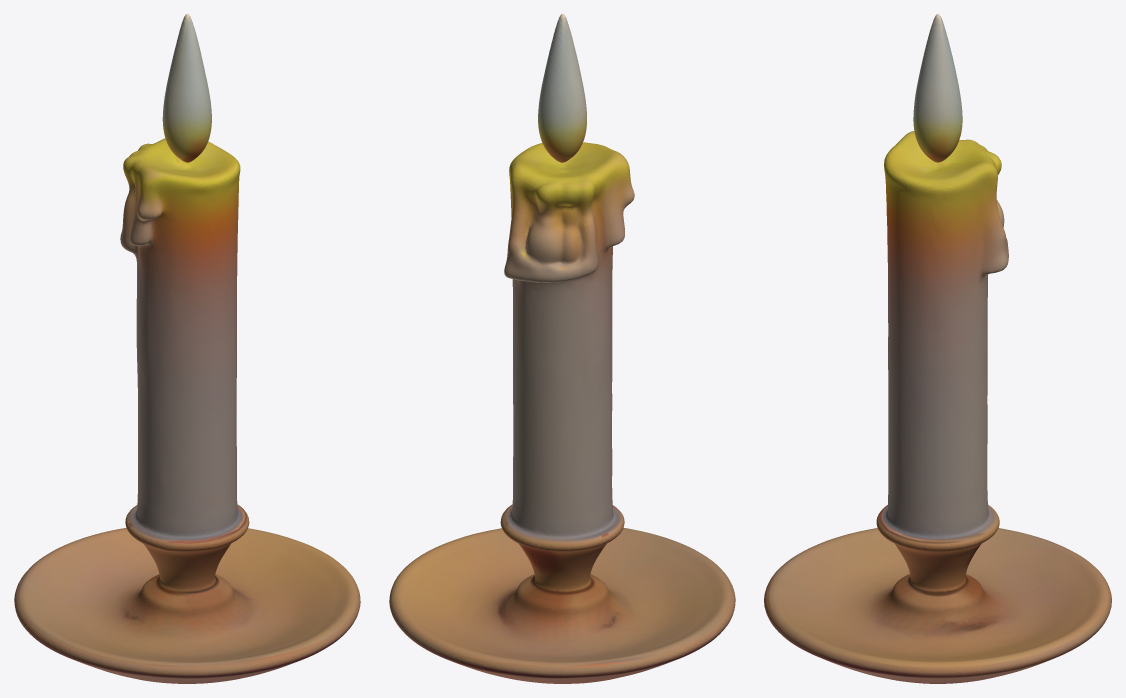
File: candle-03.glb
3 views of the same model, side by side, from view 1: azimuth 30°, elevation 25°; view 2: azimuth 150°, elevation 25°; view 3: azimuth 270°, elevation 25° (orthographic).
Parts seen in each view (by area): view 1: tripo_node_5e2b3687-7f7e-4e97-a186-17b5df7cb3a4; view 2: tripo_node_5e2b3687-7f7e-4e97-a186-17b5df7cb3a4; view 3: tripo_node_5e2b3687-7f7e-4e97-a186-17b5df7cb3a4.
Boxes of the visible parts, box(x1,y1,x2,y2) form: tripo_node_5e2b3687-7f7e-4e97-a186-17b5df7cb3a4: box(14, 14, 360, 683); tripo_node_5e2b3687-7f7e-4e97-a186-17b5df7cb3a4: box(389, 14, 735, 683); tripo_node_5e2b3687-7f7e-4e97-a186-17b5df7cb3a4: box(764, 14, 1111, 683).
Size of the model in its own units: 0.4774 by 0.9474 by 0.479.
Materials: 1 (1 with a texture image).
